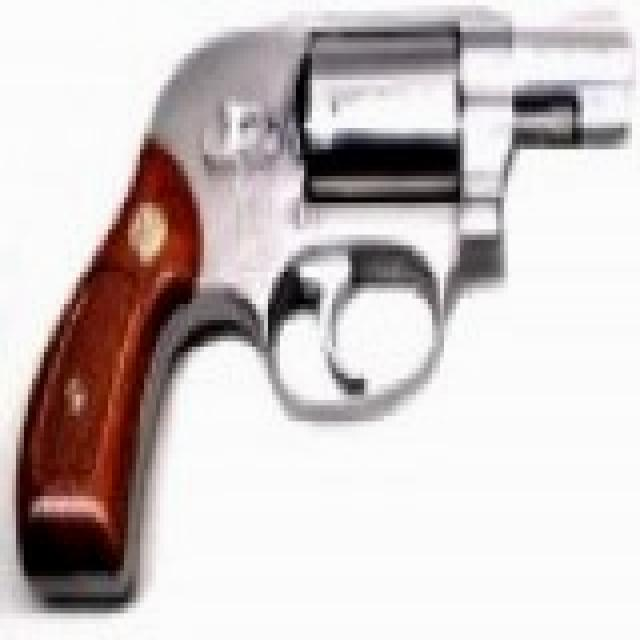pistol: (20, 0, 628, 608)
